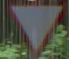Give way: (4, 1, 58, 50)
